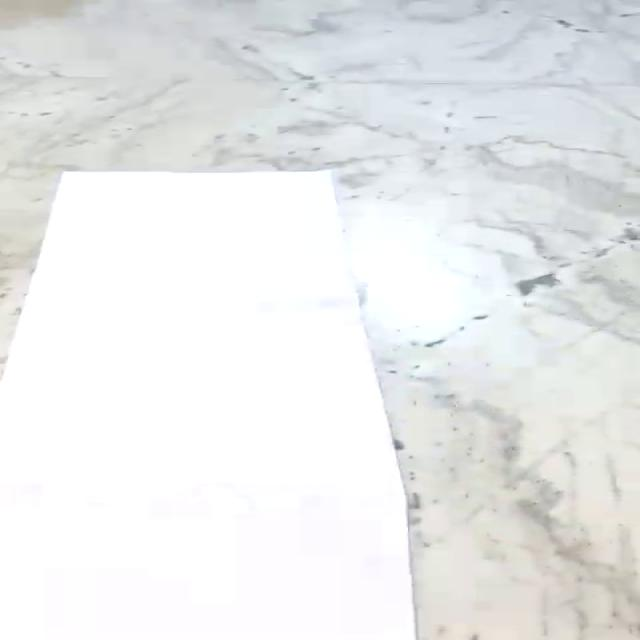road: (0, 169, 417, 640)
